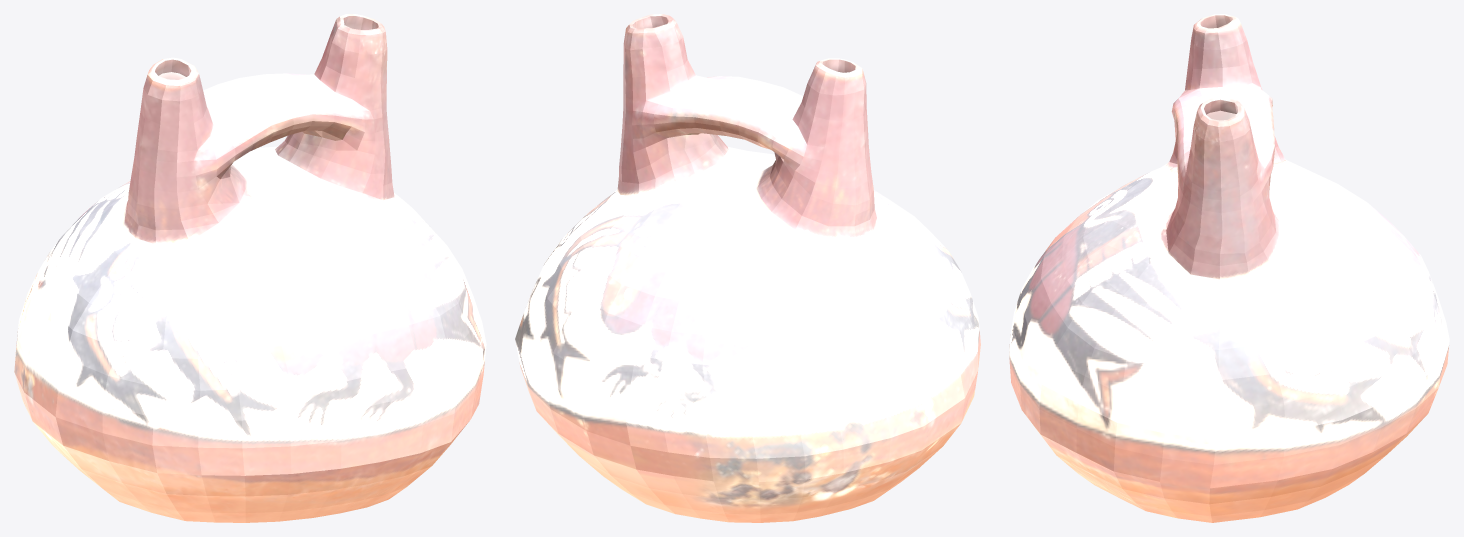
Rendered from objeto_03_nasca.glb.
3 renders of one model, left to right at view 1: azimuth 30°, elevation 25°; view 2: azimuth 150°, elevation 25°; view 3: azimuth 270°, elevation 25°, orthographic. The views are drawn at different scales.
Parts seen in each view (by area): view 1: TopoSurface001; view 2: TopoSurface001; view 3: TopoSurface001.
Part boxes in pixels (<box>): TopoSurface001: <box>14,14,486,522</box>; TopoSurface001: <box>515,14,980,522</box>; TopoSurface001: <box>1009,14,1449,522</box>.
Size of the model in its own units: 67.9 by 67.42 by 66.43.
